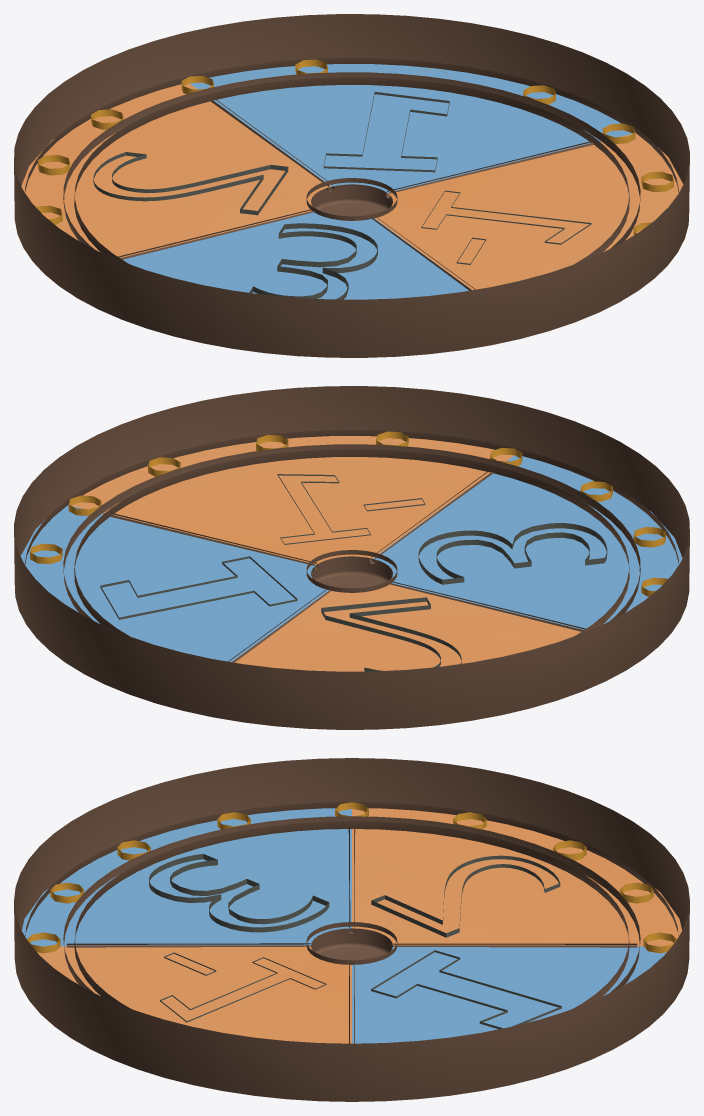
File: ghost_roullet.glb
The picture shows the model from 3 angles, top to bottom: view 1: azimuth 30°, elevation 25°; view 2: azimuth 150°, elevation 25°; view 3: azimuth 270°, elevation 25°; orthographic projection.
Parts seen in each view (by area): view 1: typeMesh8.001; view 2: typeMesh8.001; view 3: typeMesh8.001.
Part boxes in pixels (bbox=[...]): typeMesh8.001: bbox=[14, 14, 689, 357]; typeMesh8.001: bbox=[14, 386, 689, 729]; typeMesh8.001: bbox=[14, 758, 689, 1101].
Bounding box in the file's own units: 4.88 × 0.5107 × 4.88.
1 material, 1 textured.
